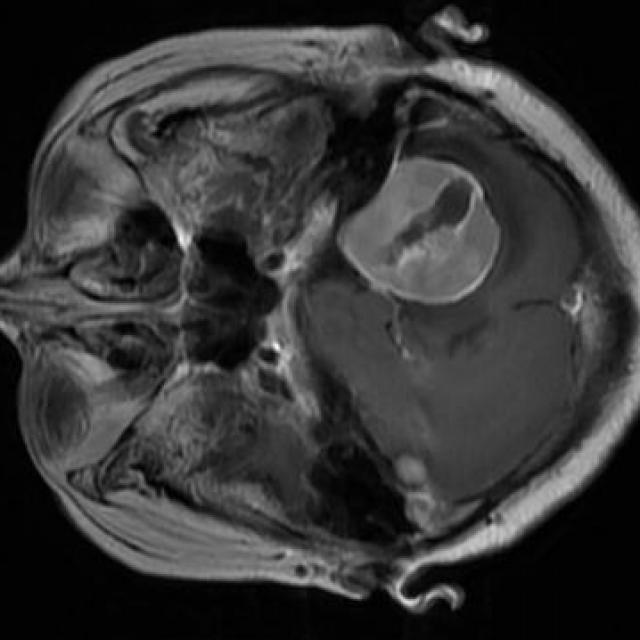meningioma: (337, 157, 501, 303)
